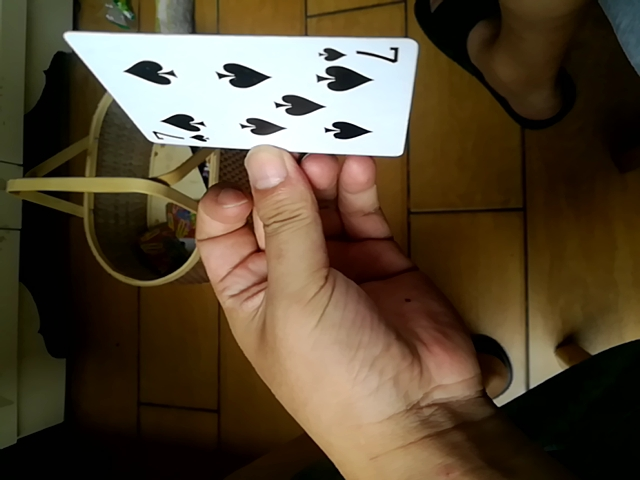ht 7: (60, 29, 415, 158)
